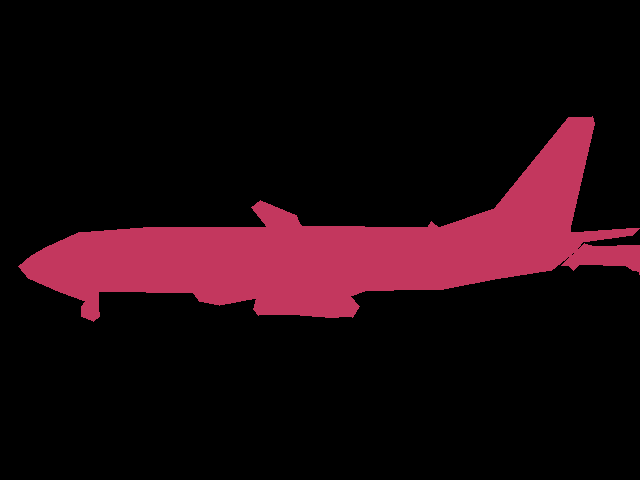Airplane: (18, 116, 640, 321), (561, 243, 640, 275)
